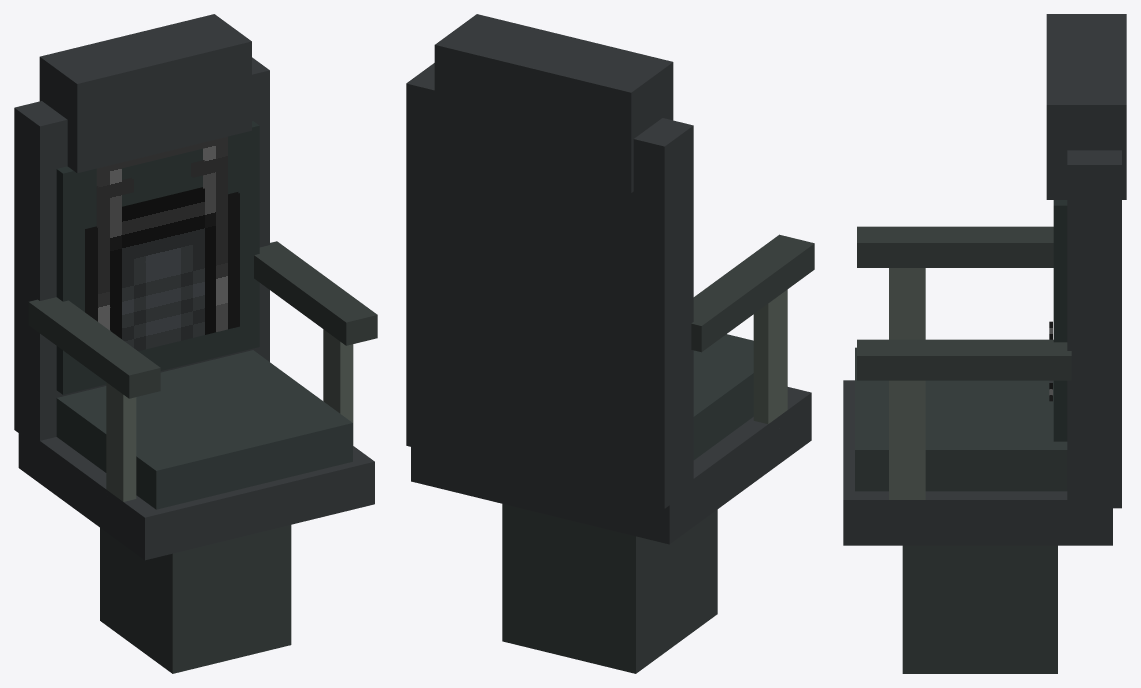
The model's file is CMU3DInteriorCMUSeatBlackfootPassenger.glb.
3 renders of one model, left to right at view 1: azimuth 30°, elevation 25°; view 2: azimuth 150°, elevation 25°; view 3: azimuth 270°, elevation 25°, orthographic. The views are drawn at different scales.
Visible parts, largest first — view 1: cushion, source seat upholstery, headrest, bolted pedestal, seat pan, reinforced back, back cushion, arm rest (×2), arm support (×2); view 2: reinforced back, headrest, bolted pedestal, seat pan, arm rest, cushion, arm support; view 3: bolted pedestal, reinforced back, cushion, arm rest (×2), seat pan, headrest, arm support (×2), back cushion.
Part boxes in pixels (bbox=[...]): cushion: bbox=[56, 350, 352, 509]; source seat upholstery: bbox=[85, 136, 239, 351]; headrest: bbox=[39, 14, 251, 173]; bolted pedestal: bbox=[100, 525, 291, 673]; seat pan: bbox=[18, 425, 374, 560]; reinforced back: bbox=[14, 57, 269, 440]; back cushion: bbox=[56, 121, 259, 394]; arm rest (×2): bbox=[28, 241, 377, 398]; arm support (×2): bbox=[106, 329, 353, 501]; reinforced back: bbox=[406, 63, 693, 508]; headrest: bbox=[434, 14, 673, 192]; bolted pedestal: bbox=[502, 504, 717, 673]; seat pan: bbox=[411, 387, 811, 544]; arm rest: bbox=[691, 234, 814, 352]; cushion: bbox=[693, 334, 753, 459]; arm support: bbox=[753, 289, 787, 423]; bolted pedestal: bbox=[902, 545, 1057, 673]; reinforced back: bbox=[1067, 150, 1121, 508]; cushion: bbox=[855, 347, 1067, 491]; arm rest (×2): bbox=[857, 226, 1071, 380]; seat pan: bbox=[843, 380, 1112, 545]; headrest: bbox=[1046, 14, 1126, 199]; arm support (×2): bbox=[889, 268, 925, 499]; back cushion: bbox=[1053, 200, 1067, 441].
Bounding box in the file's own units: 0.67 × 1.41 × 0.62.
Materials: 7 (1 with a texture image).
